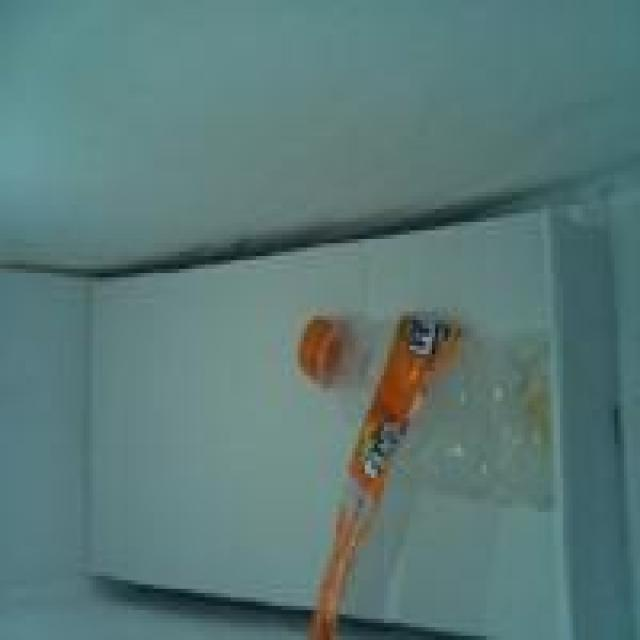bottle: (266, 287, 588, 579)
